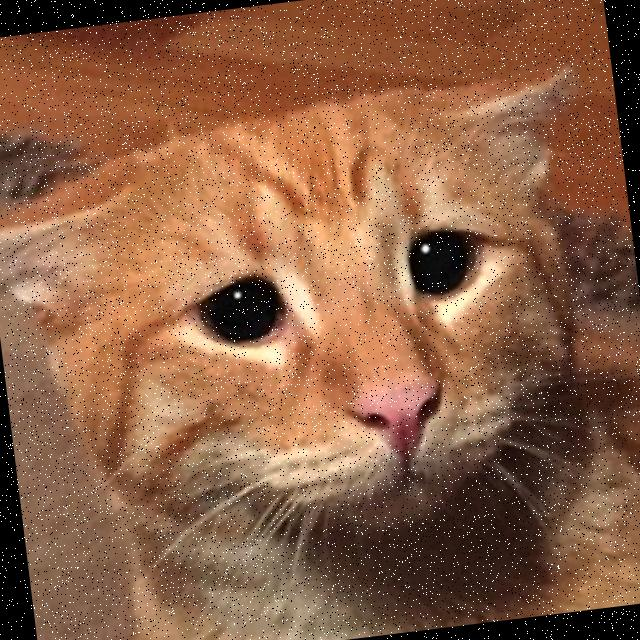Sad: (113, 183, 572, 558)
